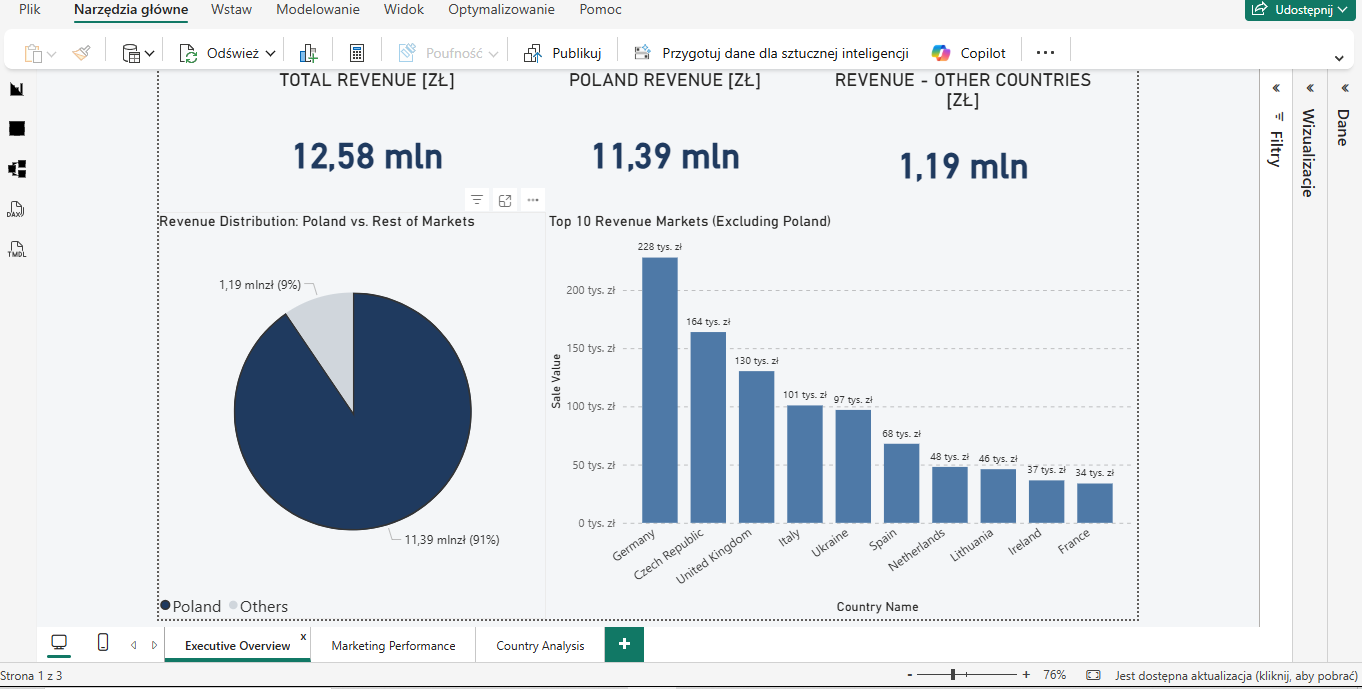

The page's visual inventory and layout, read from the dashboard file:
{"tool":"powerbi","page":{"name":"Executive Overview","canvas":[1280,720],"ordinal":0},"visuals":[{"type":"card","title":"TOTAL REVENUE [ZŁ]","fields":{"Values":["public sale_vs_marketing_KPI.Total Revenue"]},"box":[76.7,0,390.2,189.4],"z":0},{"type":"card","title":"POLAND  REVENUE [ZŁ]","fields":{"Values":["public sale_vs_marketing_KPI.Revenue Poland"]},"box":[466.9,0,390.2,189.4],"z":1000},{"type":"card","title":"REVENUE - OTHER COUNTRIES [ZŁ]","fields":{"Values":["sale_vs_marketing_KPI.Revenue Excluding Poland"]},"box":[857.1,0,390.2,189.4],"z":2000},{"type":"pieChart","title":"Revenue Distribution: Poland vs. Rest of Markets","fields":{"Y":["Sum(sale_vs_marketing_KPI.sale_sum)"],"Category":["sale_vs_marketing_KPI.Poland_vs_Others"]},"box":[0,187.3,507.3,532.7],"z":3000},{"type":"lineStackedColumnComboChart","title":"Top 10 Revenue Markets (Excluding Poland)","fields":{"Category":["sale_vs_marketing_KPI.country_name"],"Y":["Sum(sale_vs_marketing_KPI.sale_sum)"]},"box":[505.5,187.3,774.5,530.9],"z":4000}]}

Visuals, with their boxes on the page's 1280x720 design canvas (x1, y1, x2, y2). These are canvas units, not pixel positions in the 1362x689 screenshot, which may show the page scaled, cropped or inside an application window:
"TOTAL REVENUE [ZŁ]" card: pyautogui.locateOnScreen(77, 0, 467, 189)
"POLAND  REVENUE [ZŁ]" card: pyautogui.locateOnScreen(467, 0, 857, 189)
"REVENUE - OTHER COUNTRIES [ZŁ]" card: pyautogui.locateOnScreen(857, 0, 1247, 189)
"Revenue Distribution: Poland vs. Rest of Markets" pieChart: pyautogui.locateOnScreen(0, 187, 507, 720)
"Top 10 Revenue Markets (Excluding Poland)" lineStackedColumnComboChart: pyautogui.locateOnScreen(506, 187, 1280, 718)
